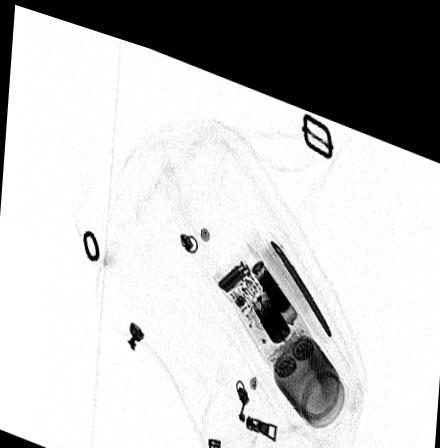Knife: (269, 222, 333, 316)
